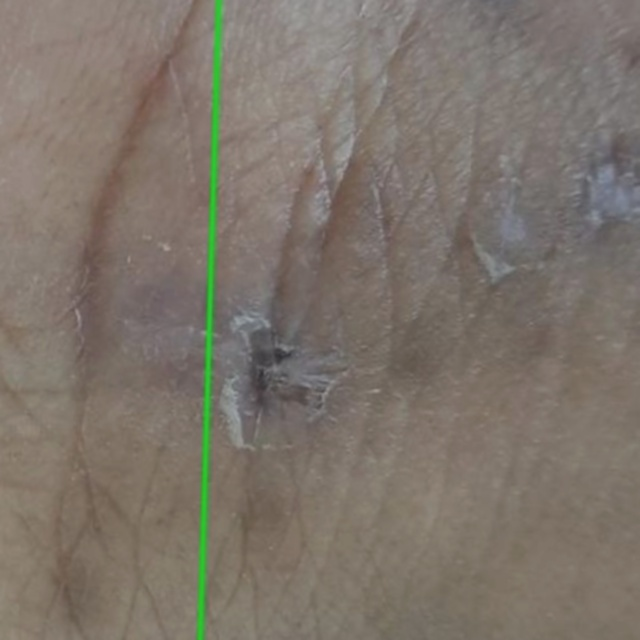Scabies: (0, 0, 218, 639)
